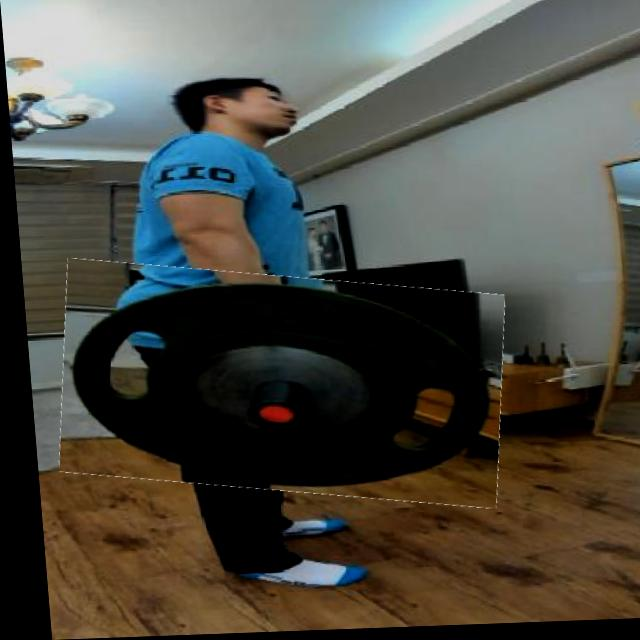barbell: (45, 260, 507, 513)
